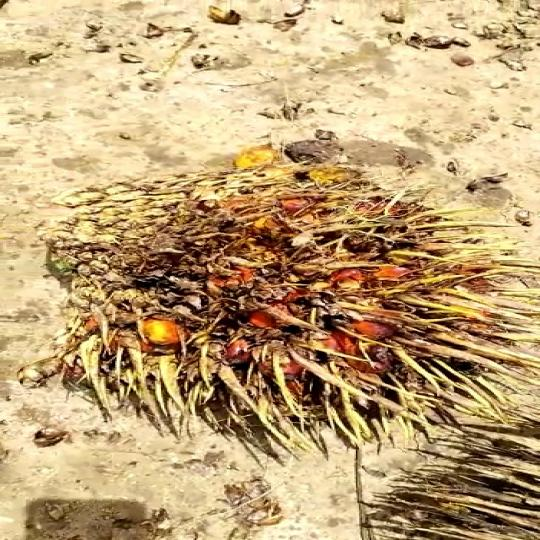terlalu masak: (41, 142, 531, 457)
